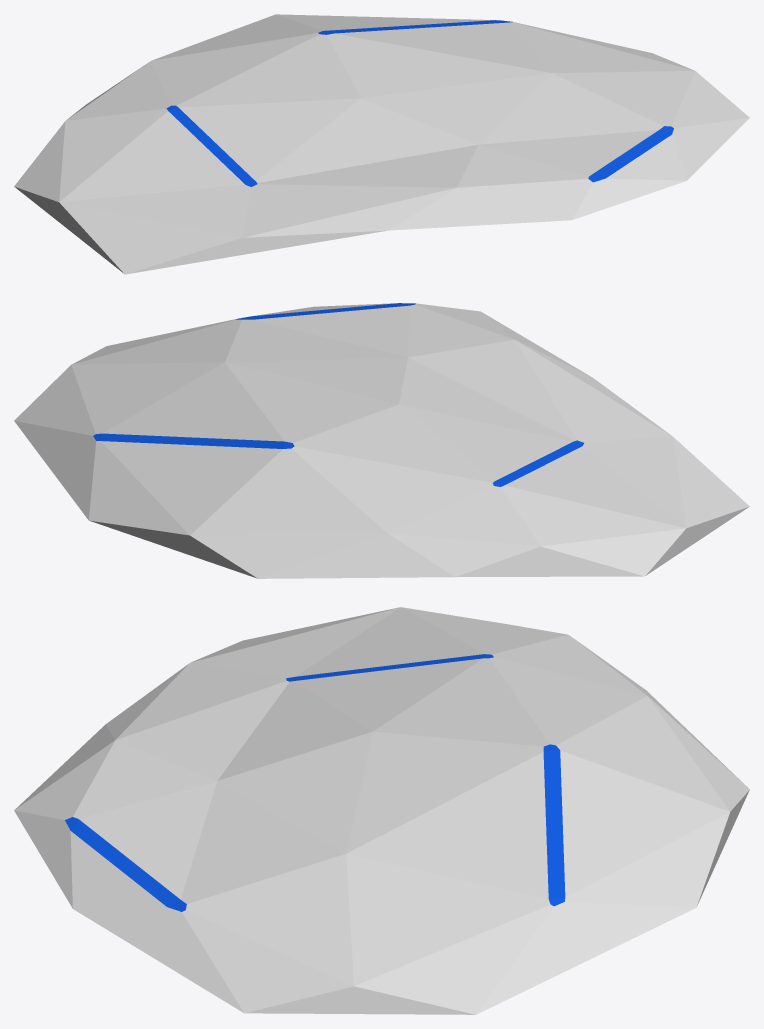
Rendered from Terrain_Rock.fbx.
3 renders of one model, top to bottom at view 1: azimuth 30°, elevation 25°; view 2: azimuth 150°, elevation 25°; view 3: azimuth 270°, elevation 25°, orthographic. The views are drawn at different scales.
Parts seen in each view (by area): view 1: Terrain_Rock; view 2: Terrain_Rock; view 3: Terrain_Rock.
Boxes of the visible parts, x1,y1,x2,y2 form: Terrain_Rock: (14, 14, 749, 274); Terrain_Rock: (14, 303, 749, 578); Terrain_Rock: (14, 607, 749, 1014).
Size of the model in its own units: 256 by 27.93 by 210.
